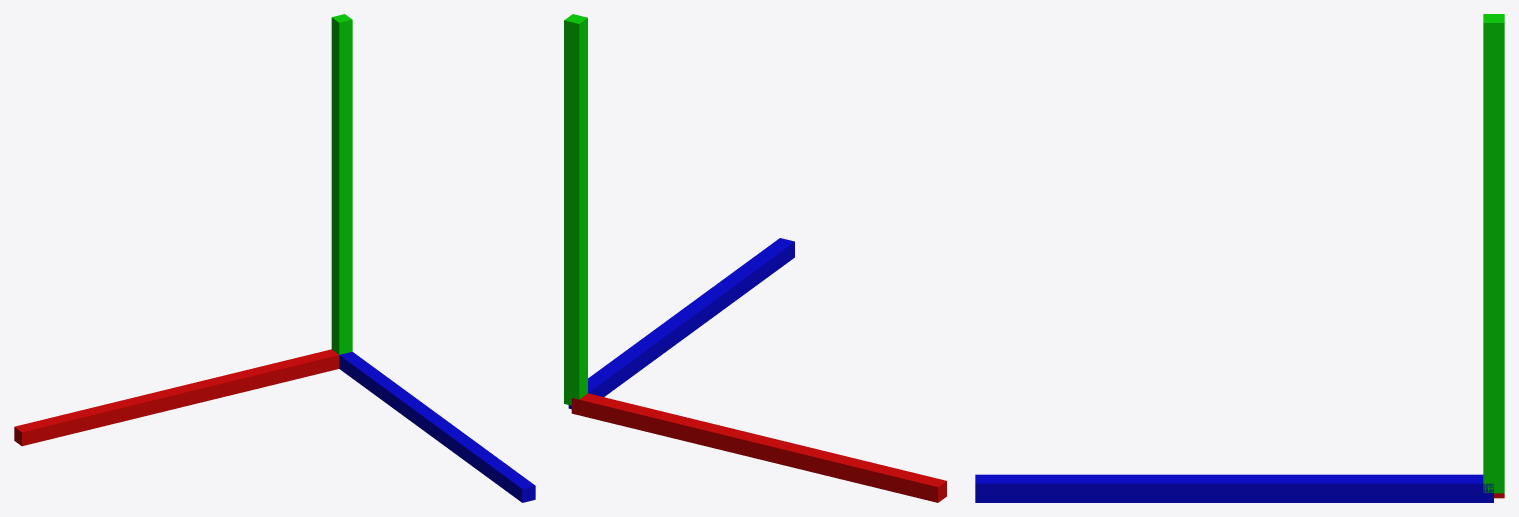
File: Origin.fbx
The picture shows the model from 3 angles, left to right: view 1: azimuth 30°, elevation 25°; view 2: azimuth 150°, elevation 25°; view 3: azimuth 270°, elevation 25°; orthographic projection. The views are drawn at different scales.
Visible parts, largest first — view 1: Origin; view 2: Origin; view 3: Origin.
Part boxes in pixels (x1,y1,x2,y2): Origin: (14, 14, 535, 502); Origin: (564, 14, 946, 502); Origin: (975, 14, 1504, 502).
Size of the model in its own units: 102 by 102 by 102.
